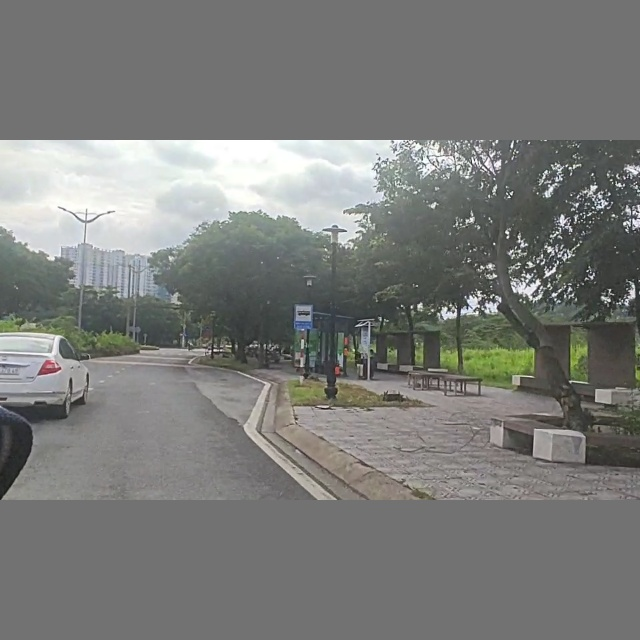I.434a: (291, 301, 316, 332)
